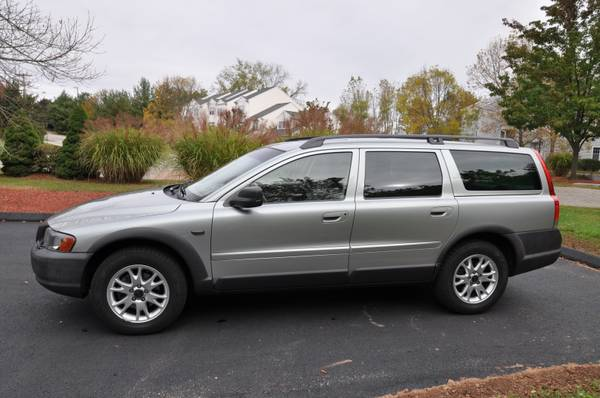volvo: (12, 133, 577, 337)
